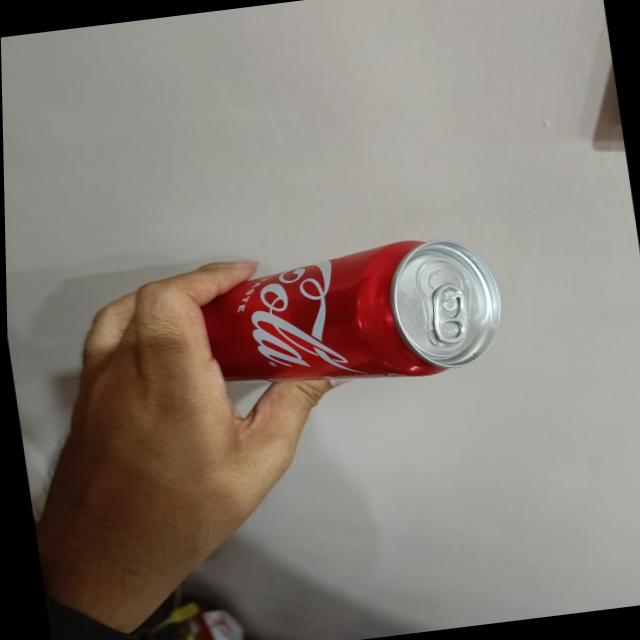coke: (139, 226, 510, 406)
